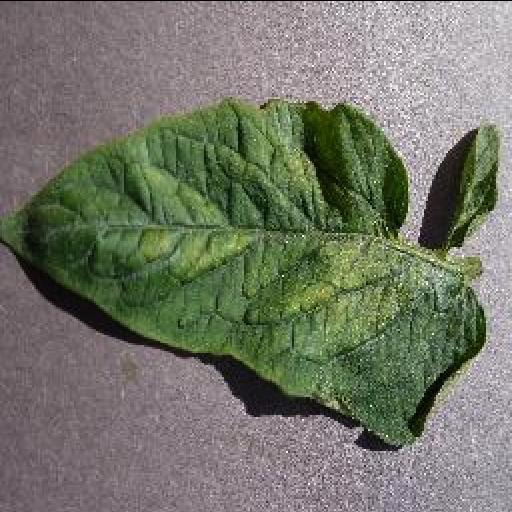disease_tomato: (0, 100, 488, 446)
